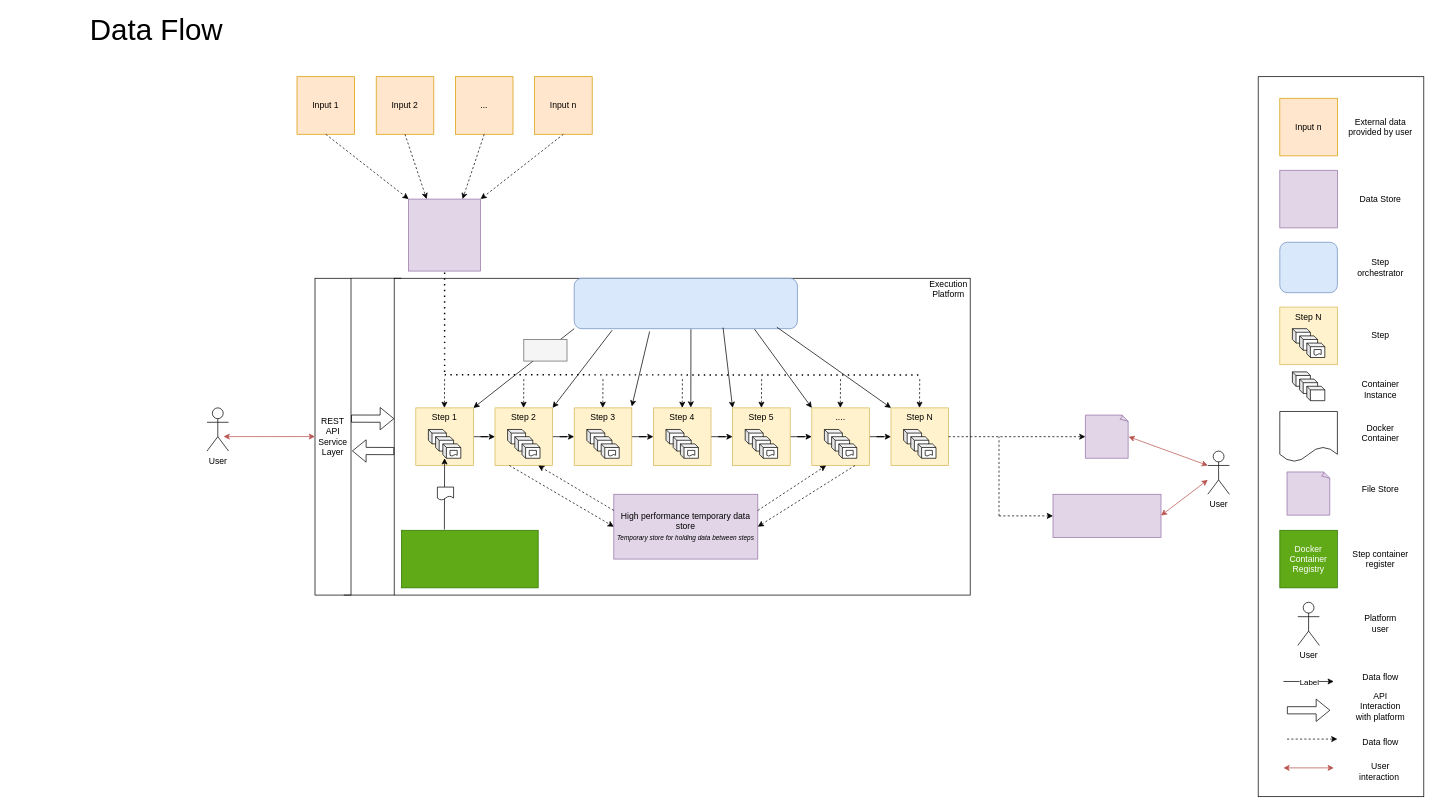
Some shapes in this 1436 by 809 pixel diagram are drawn without their labels. The shapes that lost their labels are listed below. From the top down, each one's centre as x and y in pixels, then its label:
At [444,234]: "Data Loader External data entry point to platform".
At [685,303]: "Orchestration starts/stops steps, manages data transitions".
At [545,350]: "JSON Step Definition".
At [1107,436]: "Job run metadata".
At [1106,515]: "Output data store".
At [469,559]: "Docker Container Registry Holds containers, accessed by steps to make instances".
